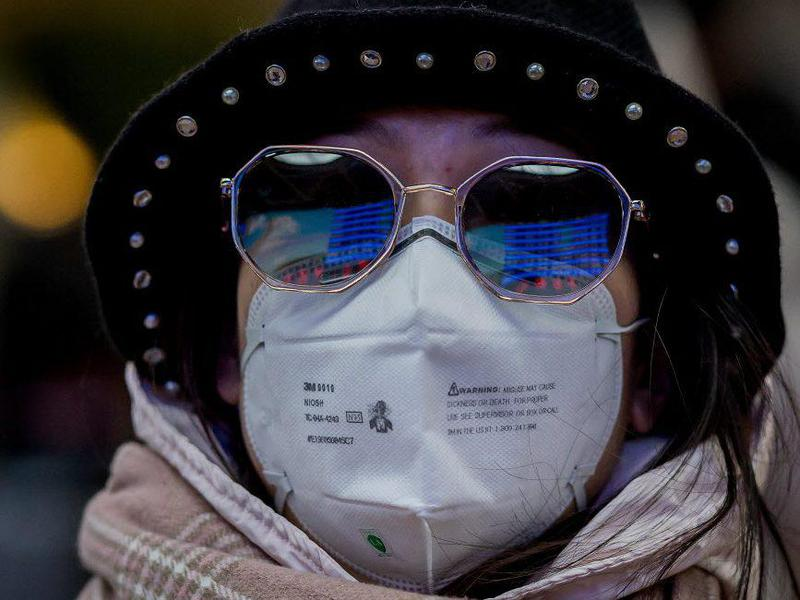with_mask: (227, 110, 645, 597)
